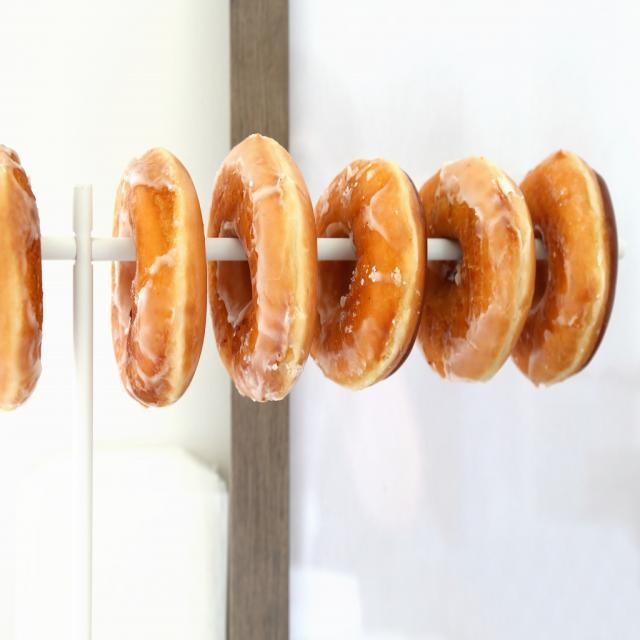Bagel: (208, 129, 320, 404), (312, 156, 430, 388), (416, 155, 536, 379), (110, 146, 208, 407), (511, 145, 618, 383), (0, 140, 46, 414)
